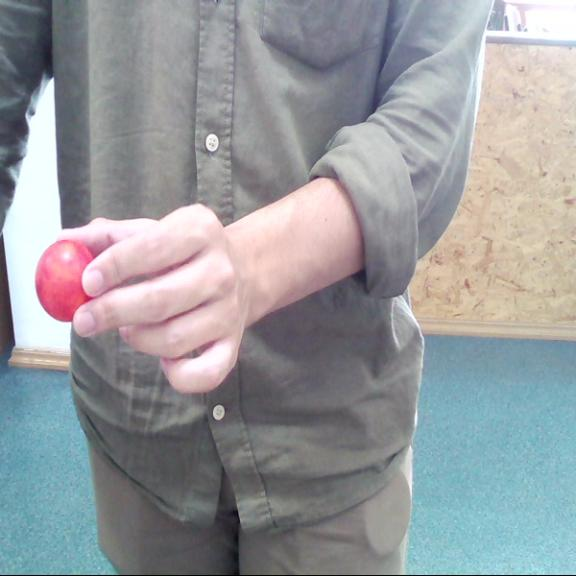ball: (34, 240, 101, 322)
